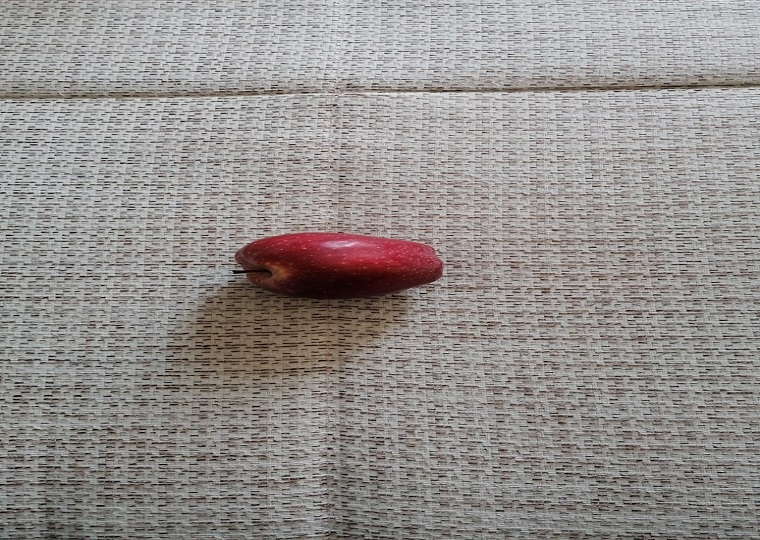elma: (228, 231, 445, 302)
